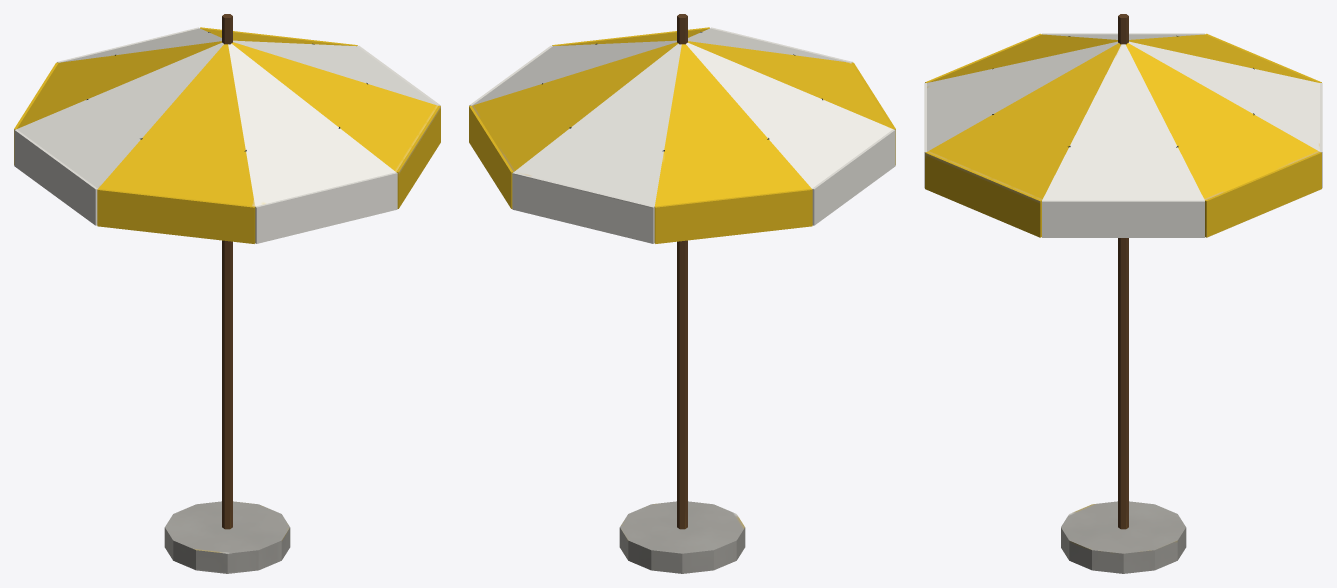
File: slunecnik_245fddce.glb
3 views of the same model, side by side, from view 1: azimuth 30°, elevation 25°; view 2: azimuth 150°, elevation 25°; view 3: azimuth 270°, elevation 25° (orthographic).
Visible parts, largest first — view 1: dum; view 2: dum; view 3: dum.
Boxes of the visible parts, x1,y1,x2,y2 form: dum: [14, 14, 440, 573]; dum: [469, 14, 895, 573]; dum: [924, 14, 1322, 573].
Bounding box in the file's own units: 1.77 × 2.61 × 1.77.
Materials: 1 (1 with a texture image).
